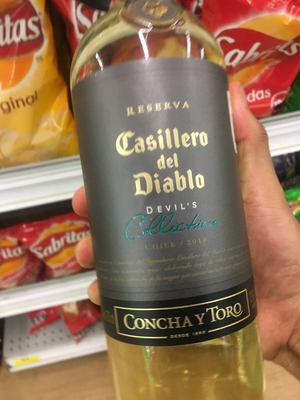casillero del diablo devils collection verde: (65, 4, 276, 396)
